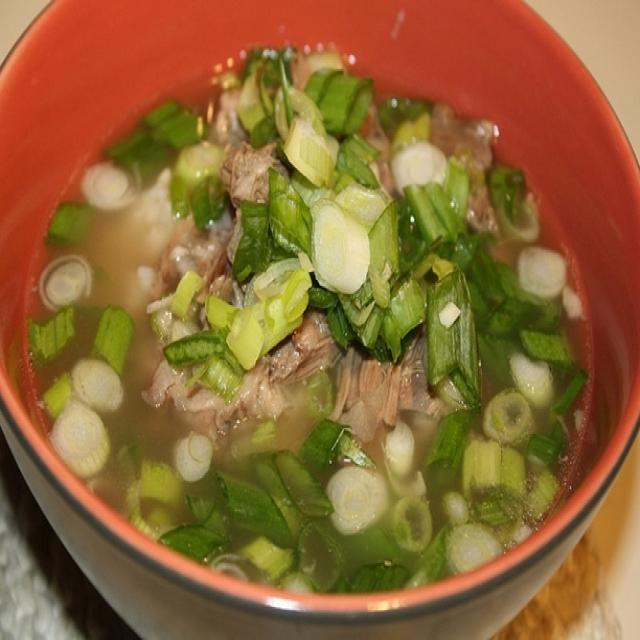汤锅炖物: (7, 5, 636, 621)
